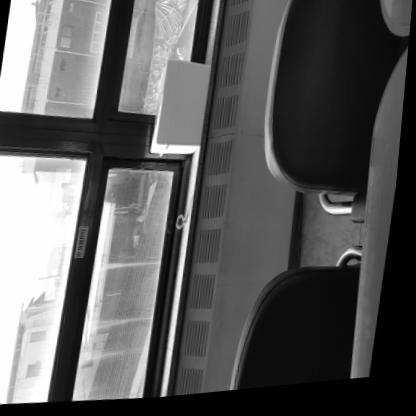DDL: (152, 58, 214, 162)
